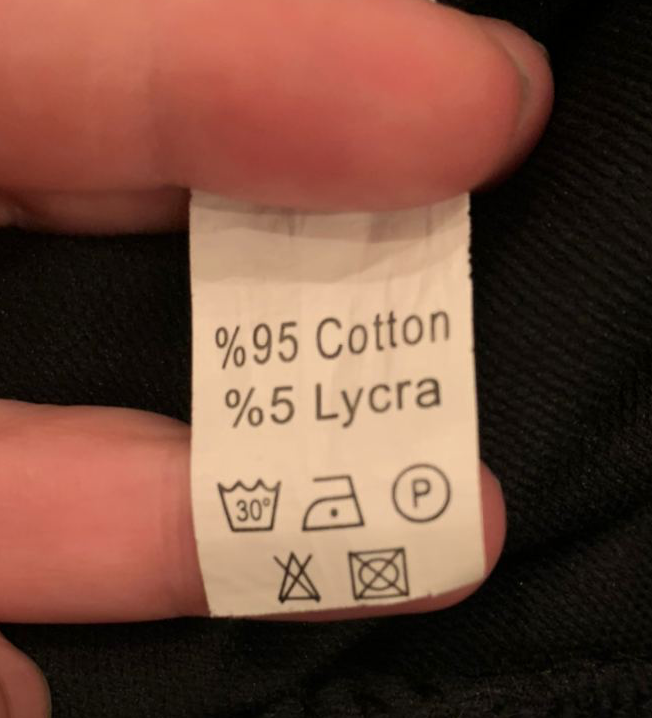do_not_bleach: (270, 550, 322, 607)
do_not_tumble_drying: (348, 543, 411, 601)
dry_clean_tetrachloroethylene_pce_only: (388, 460, 453, 524)
ironing_at_low_temp: (299, 472, 367, 536)
wash_at_or_below_30: (217, 473, 285, 535)
